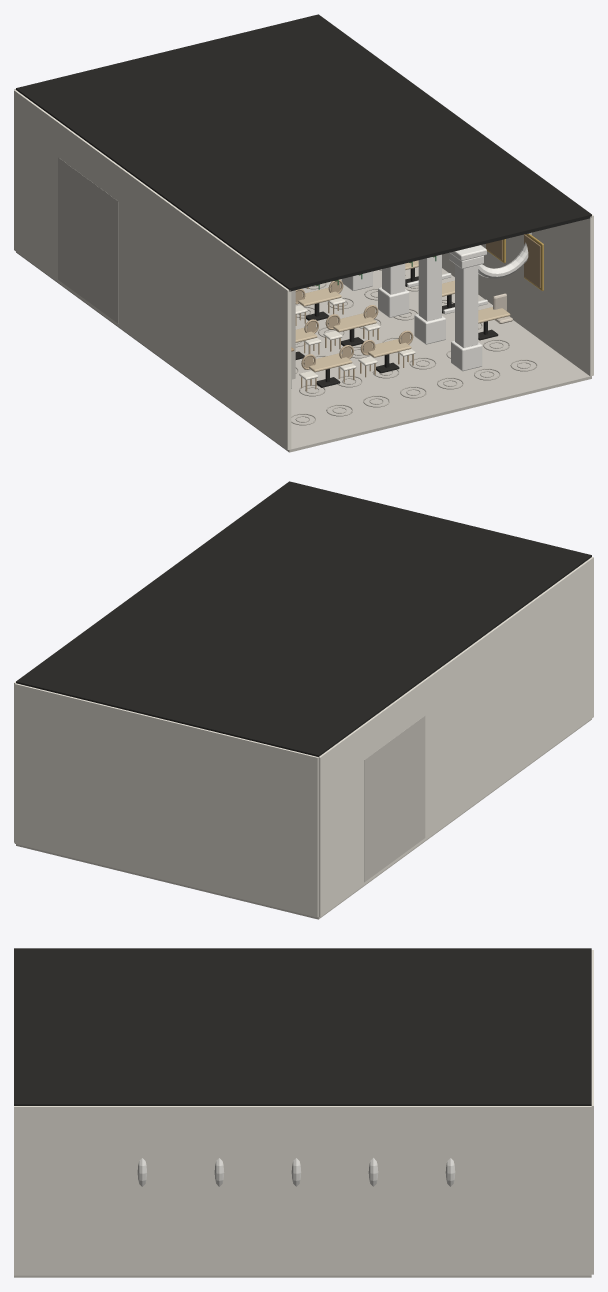
The model's file is Vito_Wood_Fired_Pizza.glb.
The picture shows the model from 3 angles, top to bottom: view 1: azimuth 30°, elevation 25°; view 2: azimuth 150°, elevation 25°; view 3: azimuth 270°, elevation 25°; orthographic projection. The views are drawn at different scales.
Parts seen in each view (by area): view 1: VITO_Ceiling, VITO_LeftWall, VITO_Floor, VITO_RightWall, KitchenArch_Left, Column_0_Shaft, Column_1_Shaft, Column_0_Base, Column_2_Base, Column_1_Base, KitchenArch_Top, ArtPanel_0 (+2 smaller); view 2: VITO_Ceiling, VITO_BackWall, VITO_LeftWall, KitchenArch_Left, VITO_Floor, KitchenArch_Top; view 3: VITO_RightWall, VITO_Ceiling, VITO_Floor, VITO_BackWall.
Boxes of the visible parts, box(x1,y1,x2,y2) form: VITO_Ceiling: box(16, 14, 591, 291); VITO_LeftWall: box(14, 90, 291, 450); VITO_Floor: box(16, 252, 591, 452); VITO_RightWall: box(327, 20, 593, 376); KitchenArch_Left: box(58, 168, 118, 323); Column_0_Shaft: box(455, 264, 478, 347); Column_1_Shaft: box(418, 254, 441, 321); Column_0_Base: box(451, 340, 482, 371); Column_2_Base: box(378, 287, 409, 317); Column_1_Base: box(414, 314, 445, 344); KitchenArch_Top: box(58, 157, 118, 211); ArtPanel_0: box(524, 234, 540, 288); VITO_Ceiling: box(16, 481, 591, 756); VITO_BackWall: box(14, 683, 318, 917); VITO_LeftWall: box(318, 557, 593, 917); KitchenArch_Left: box(364, 726, 425, 882); VITO_Floor: box(16, 719, 591, 919); KitchenArch_Top: box(364, 716, 425, 769); VITO_RightWall: box(14, 1106, 591, 1275); VITO_Ceiling: box(14, 948, 591, 1105); VITO_Floor: box(14, 1275, 591, 1277); VITO_BackWall: box(591, 950, 593, 1274).
Size of the model in its own units: 11.75 by 5.96 by 18.07.
